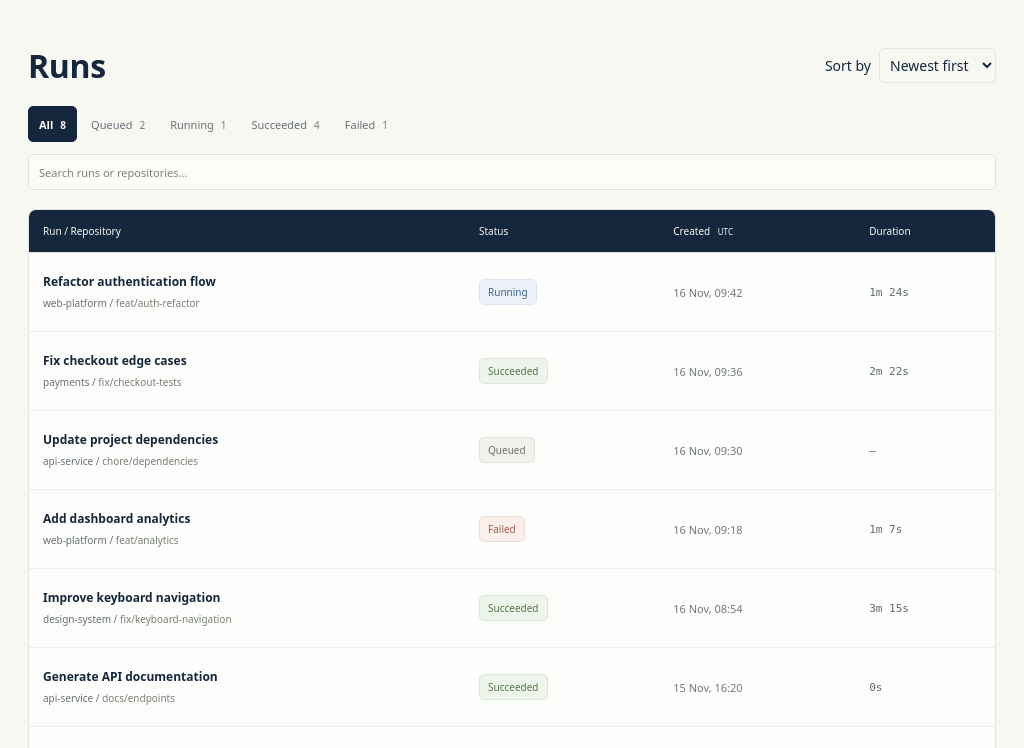
Run filters › shows matching statuses and restores the list with All
The image size is (1024, 748).
Click the button "Failed 1".
click(366, 124)  # box [334,106,399,142]
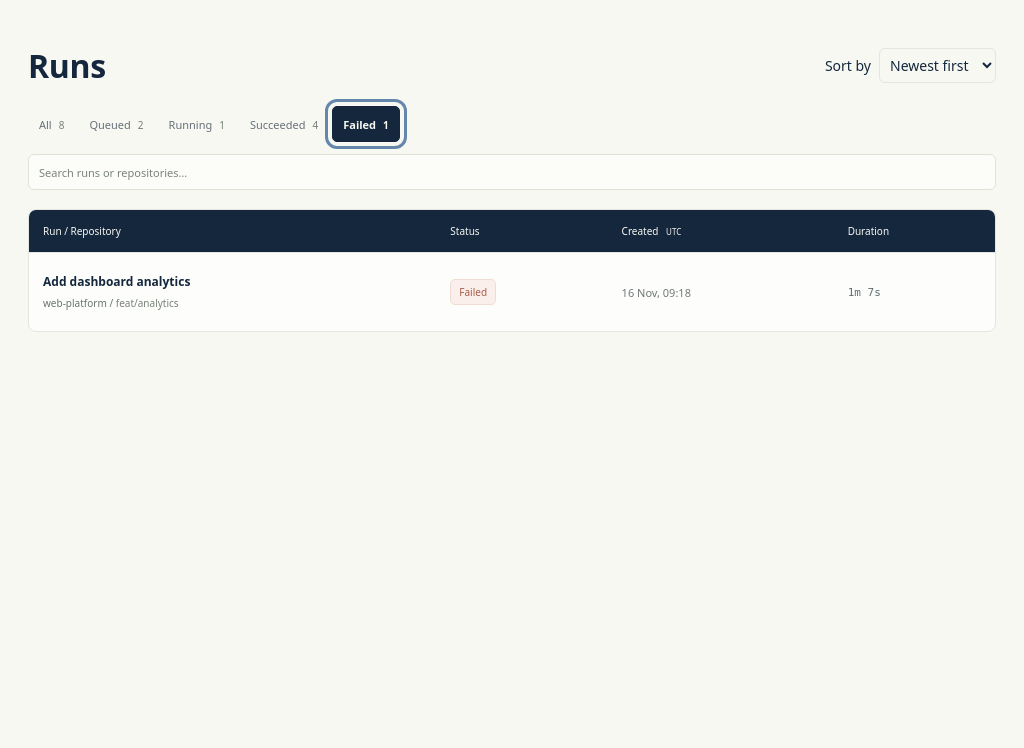
Expected: the row "Add dashboard analytics" is shown, [29,252,995,331]
Result: the text "Fix checkout edge cases" is gone
Click the button "All 8".
click(52, 124)  # box [28,106,76,142]
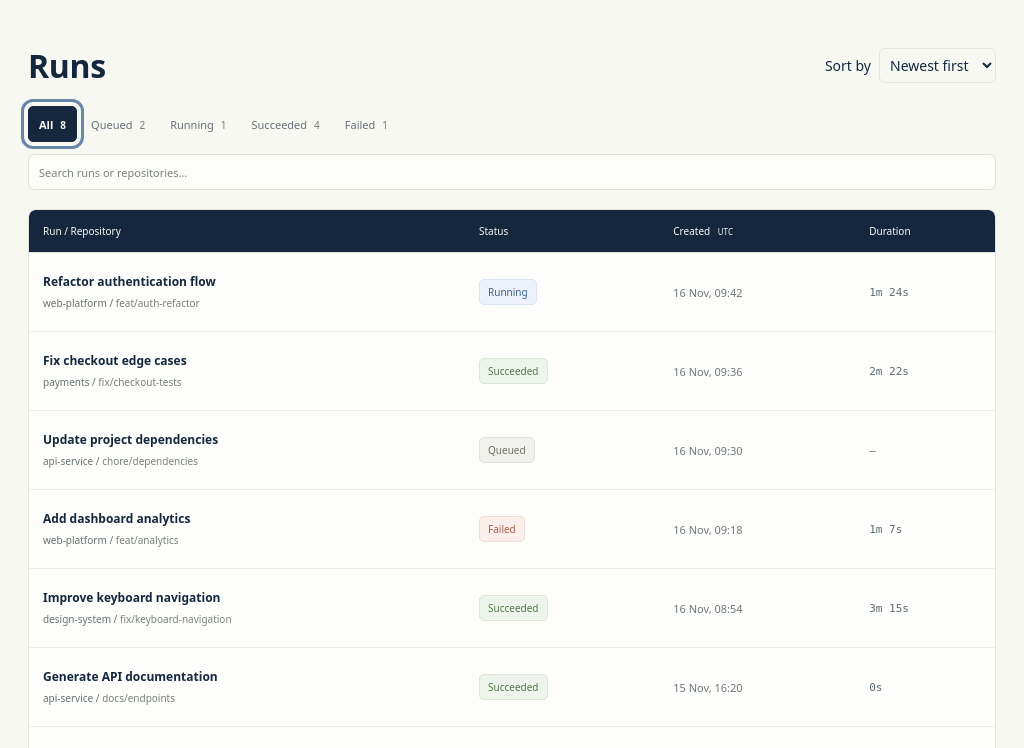
Result: the row "Fix checkout edge cases" is shown at [29,332,995,410]
